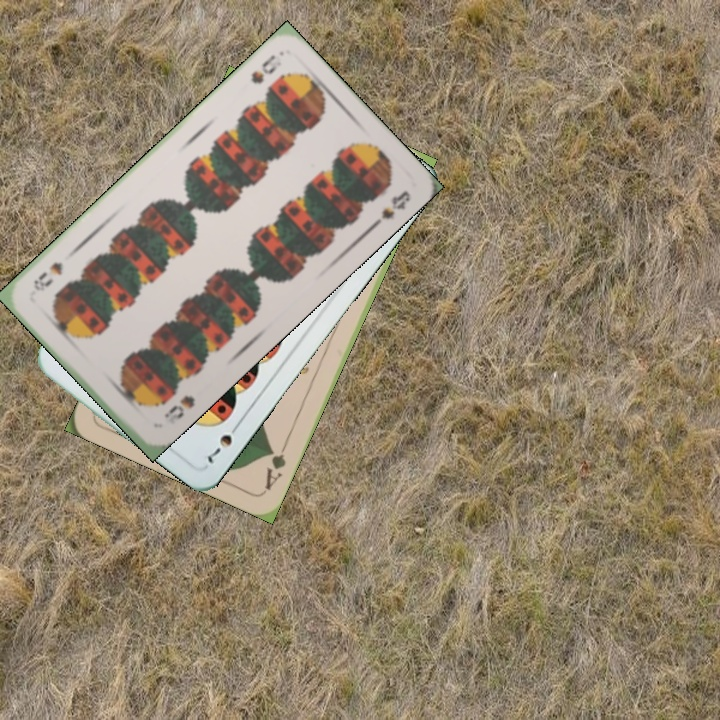GA: (260, 436, 291, 493)
S7: (203, 417, 244, 466)
S8: (160, 391, 198, 427), (247, 50, 280, 87)
